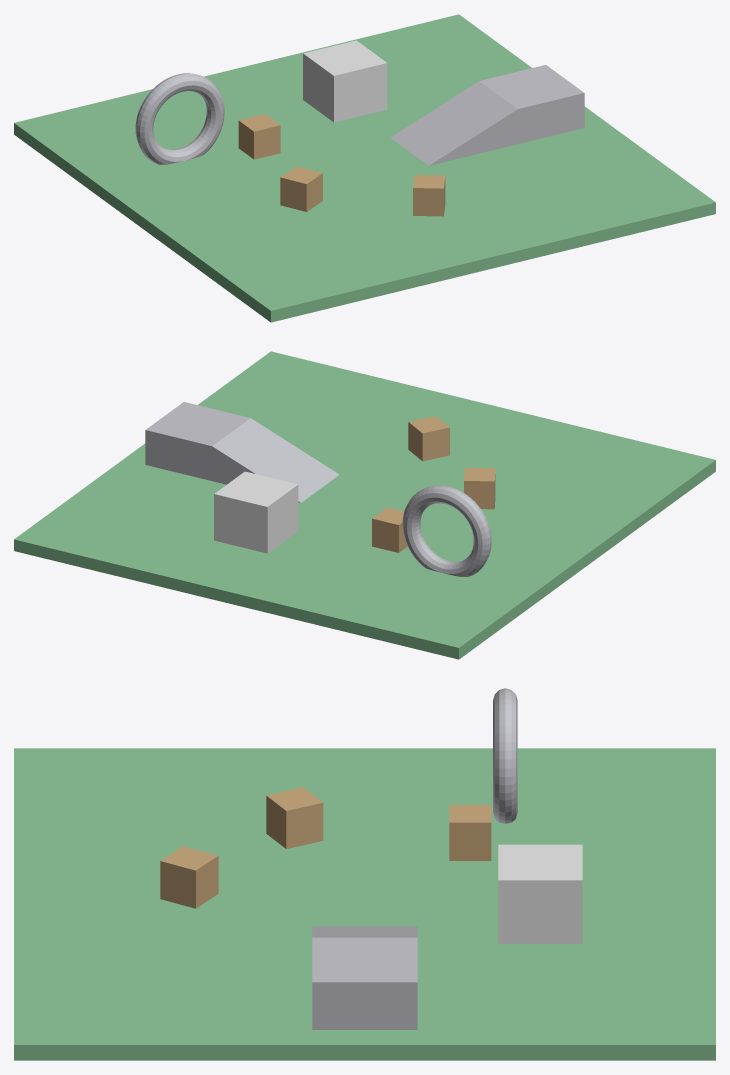
The model's file is level.glb.
3 views of the same model, one above another, from view 1: azimuth 30°, elevation 25°; view 2: azimuth 150°, elevation 25°; view 3: azimuth 270°, elevation 25° (orthographic). The views are drawn at different scales.
Visible parts, largest first — view 1: Ground, Ramp, Rock-col, Platform, Ring, Crate0, Crate1, Crate2; view 2: Ground, Rock-col, Ramp, Platform, Ring, Crate2, Crate0, Crate1; view 3: Ground, Platform, Rock-col, Ring, Crate2, Crate1, Crate0, Ramp.
Boxes of the visible parts, left/top/right/bottom form: Ground: left=14, top=14, right=715, bottom=322; Ramp: left=390, top=81, right=517, bottom=165; Rock-col: left=303, top=40, right=387, bottom=122; Platform: left=479, top=65, right=584, bottom=143; Ring: left=135, top=73, right=224, bottom=164; Crate0: left=238, top=114, right=280, bottom=159; Crate1: left=280, top=166, right=322, bottom=211; Crate2: left=413, top=175, right=445, bottom=216; Ground: left=14, top=351, right=715, bottom=659; Rock-col: left=214, top=471, right=298, bottom=553; Ramp: left=212, top=418, right=339, bottom=502; Platform: left=145, top=402, right=250, bottom=480; Ring: left=402, top=485, right=491, bottom=576; Crate2: left=408, top=416, right=449, bottom=461; Crate0: left=372, top=507, right=407, bottom=552; Crate1: left=464, top=468, right=495, bottom=509; Ground: left=14, top=748, right=715, bottom=1060; Platform: left=312, top=937, right=417, bottom=1029; Rock-col: left=498, top=844, right=582, bottom=943; Ring: left=493, top=688, right=517, bottom=823; Crate2: left=160, top=846, right=218, bottom=908; Crate1: left=266, top=787, right=323, bottom=848; Crate0: left=449, top=805, right=491, bottom=860; Ramp: left=312, top=926, right=417, bottom=937.
Bounding box in the file's own units: 20 × 4.05 × 20.
